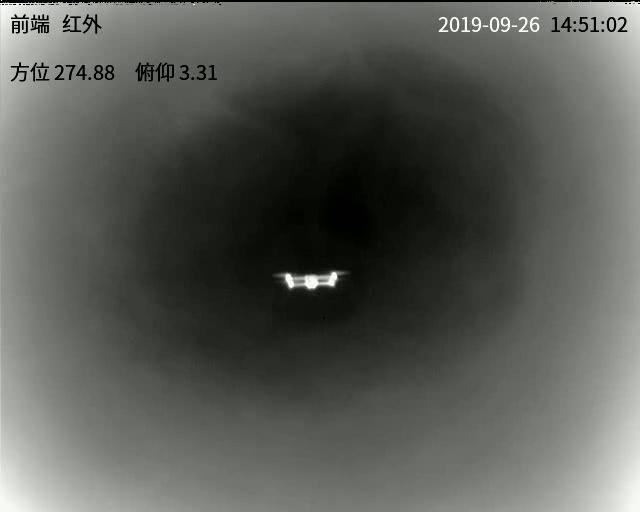DRONE: (275, 269, 345, 288)
